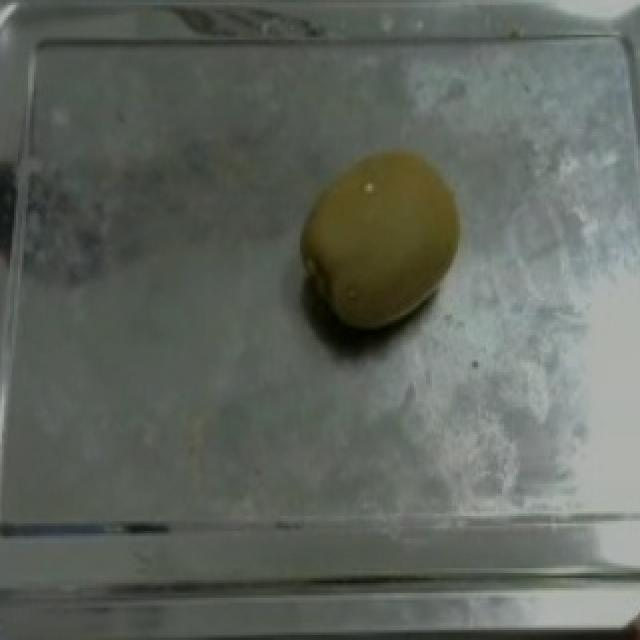Fruit: (292, 136, 472, 340)
